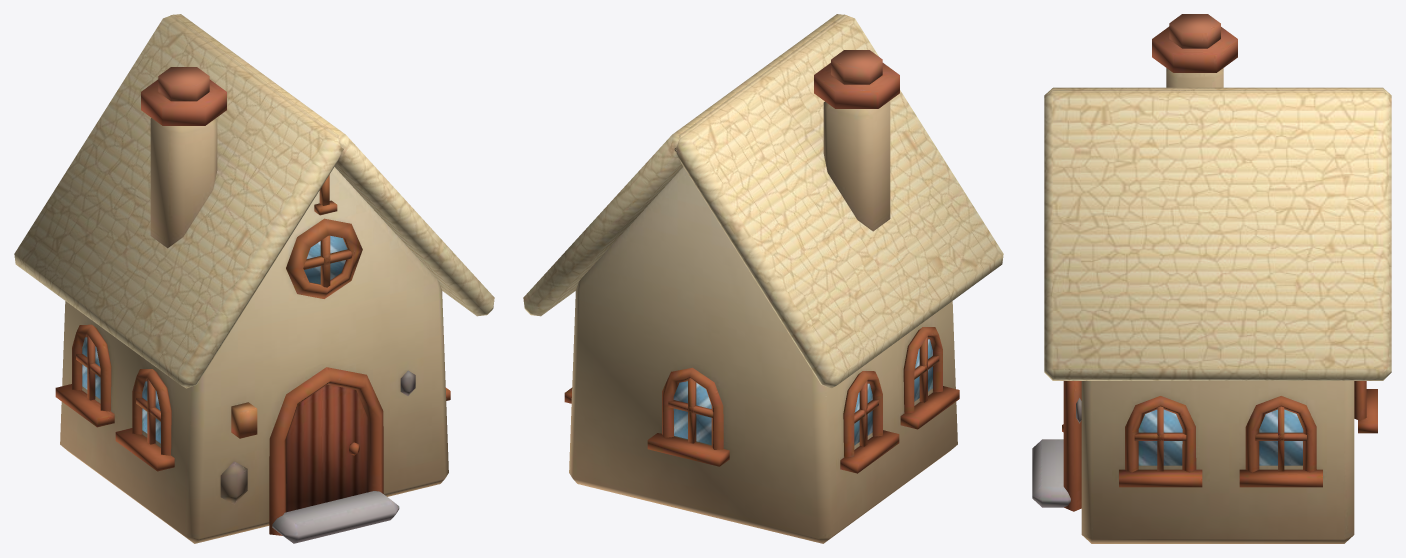
File: hut_low.glb
3 renders of one model, left to right at view 1: azimuth 30°, elevation 25°; view 2: azimuth 150°, elevation 25°; view 3: azimuth 270°, elevation 25°, orthographic.
Parts seen in each view (by area): view 1: hut; view 2: hut; view 3: hut.
Boxes of the visible parts, x1,y1,x2,y2 form: hut: [14, 14, 494, 543]; hut: [523, 14, 1003, 543]; hut: [1032, 14, 1391, 543].
Size of the model in its own units: 1.27 by 1.62 by 1.25.
Materials: 1 (1 with a texture image).
